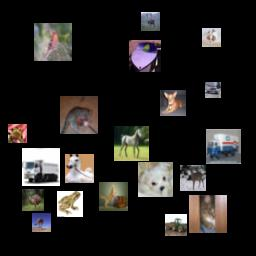automobile: (205, 82, 221, 98)
bird: (34, 23, 72, 61), (22, 189, 44, 211), (32, 213, 51, 232)
cat: (60, 96, 98, 134), (189, 195, 227, 233), (99, 182, 128, 211)
deer: (180, 165, 206, 191), (141, 12, 160, 31)
dog: (138, 162, 173, 197), (160, 90, 186, 116), (202, 28, 221, 47)
frog: (57, 191, 83, 217), (8, 124, 27, 143)
ship: (129, 40, 161, 72)
truck: (22, 148, 60, 186), (206, 129, 241, 164), (165, 214, 187, 236)
